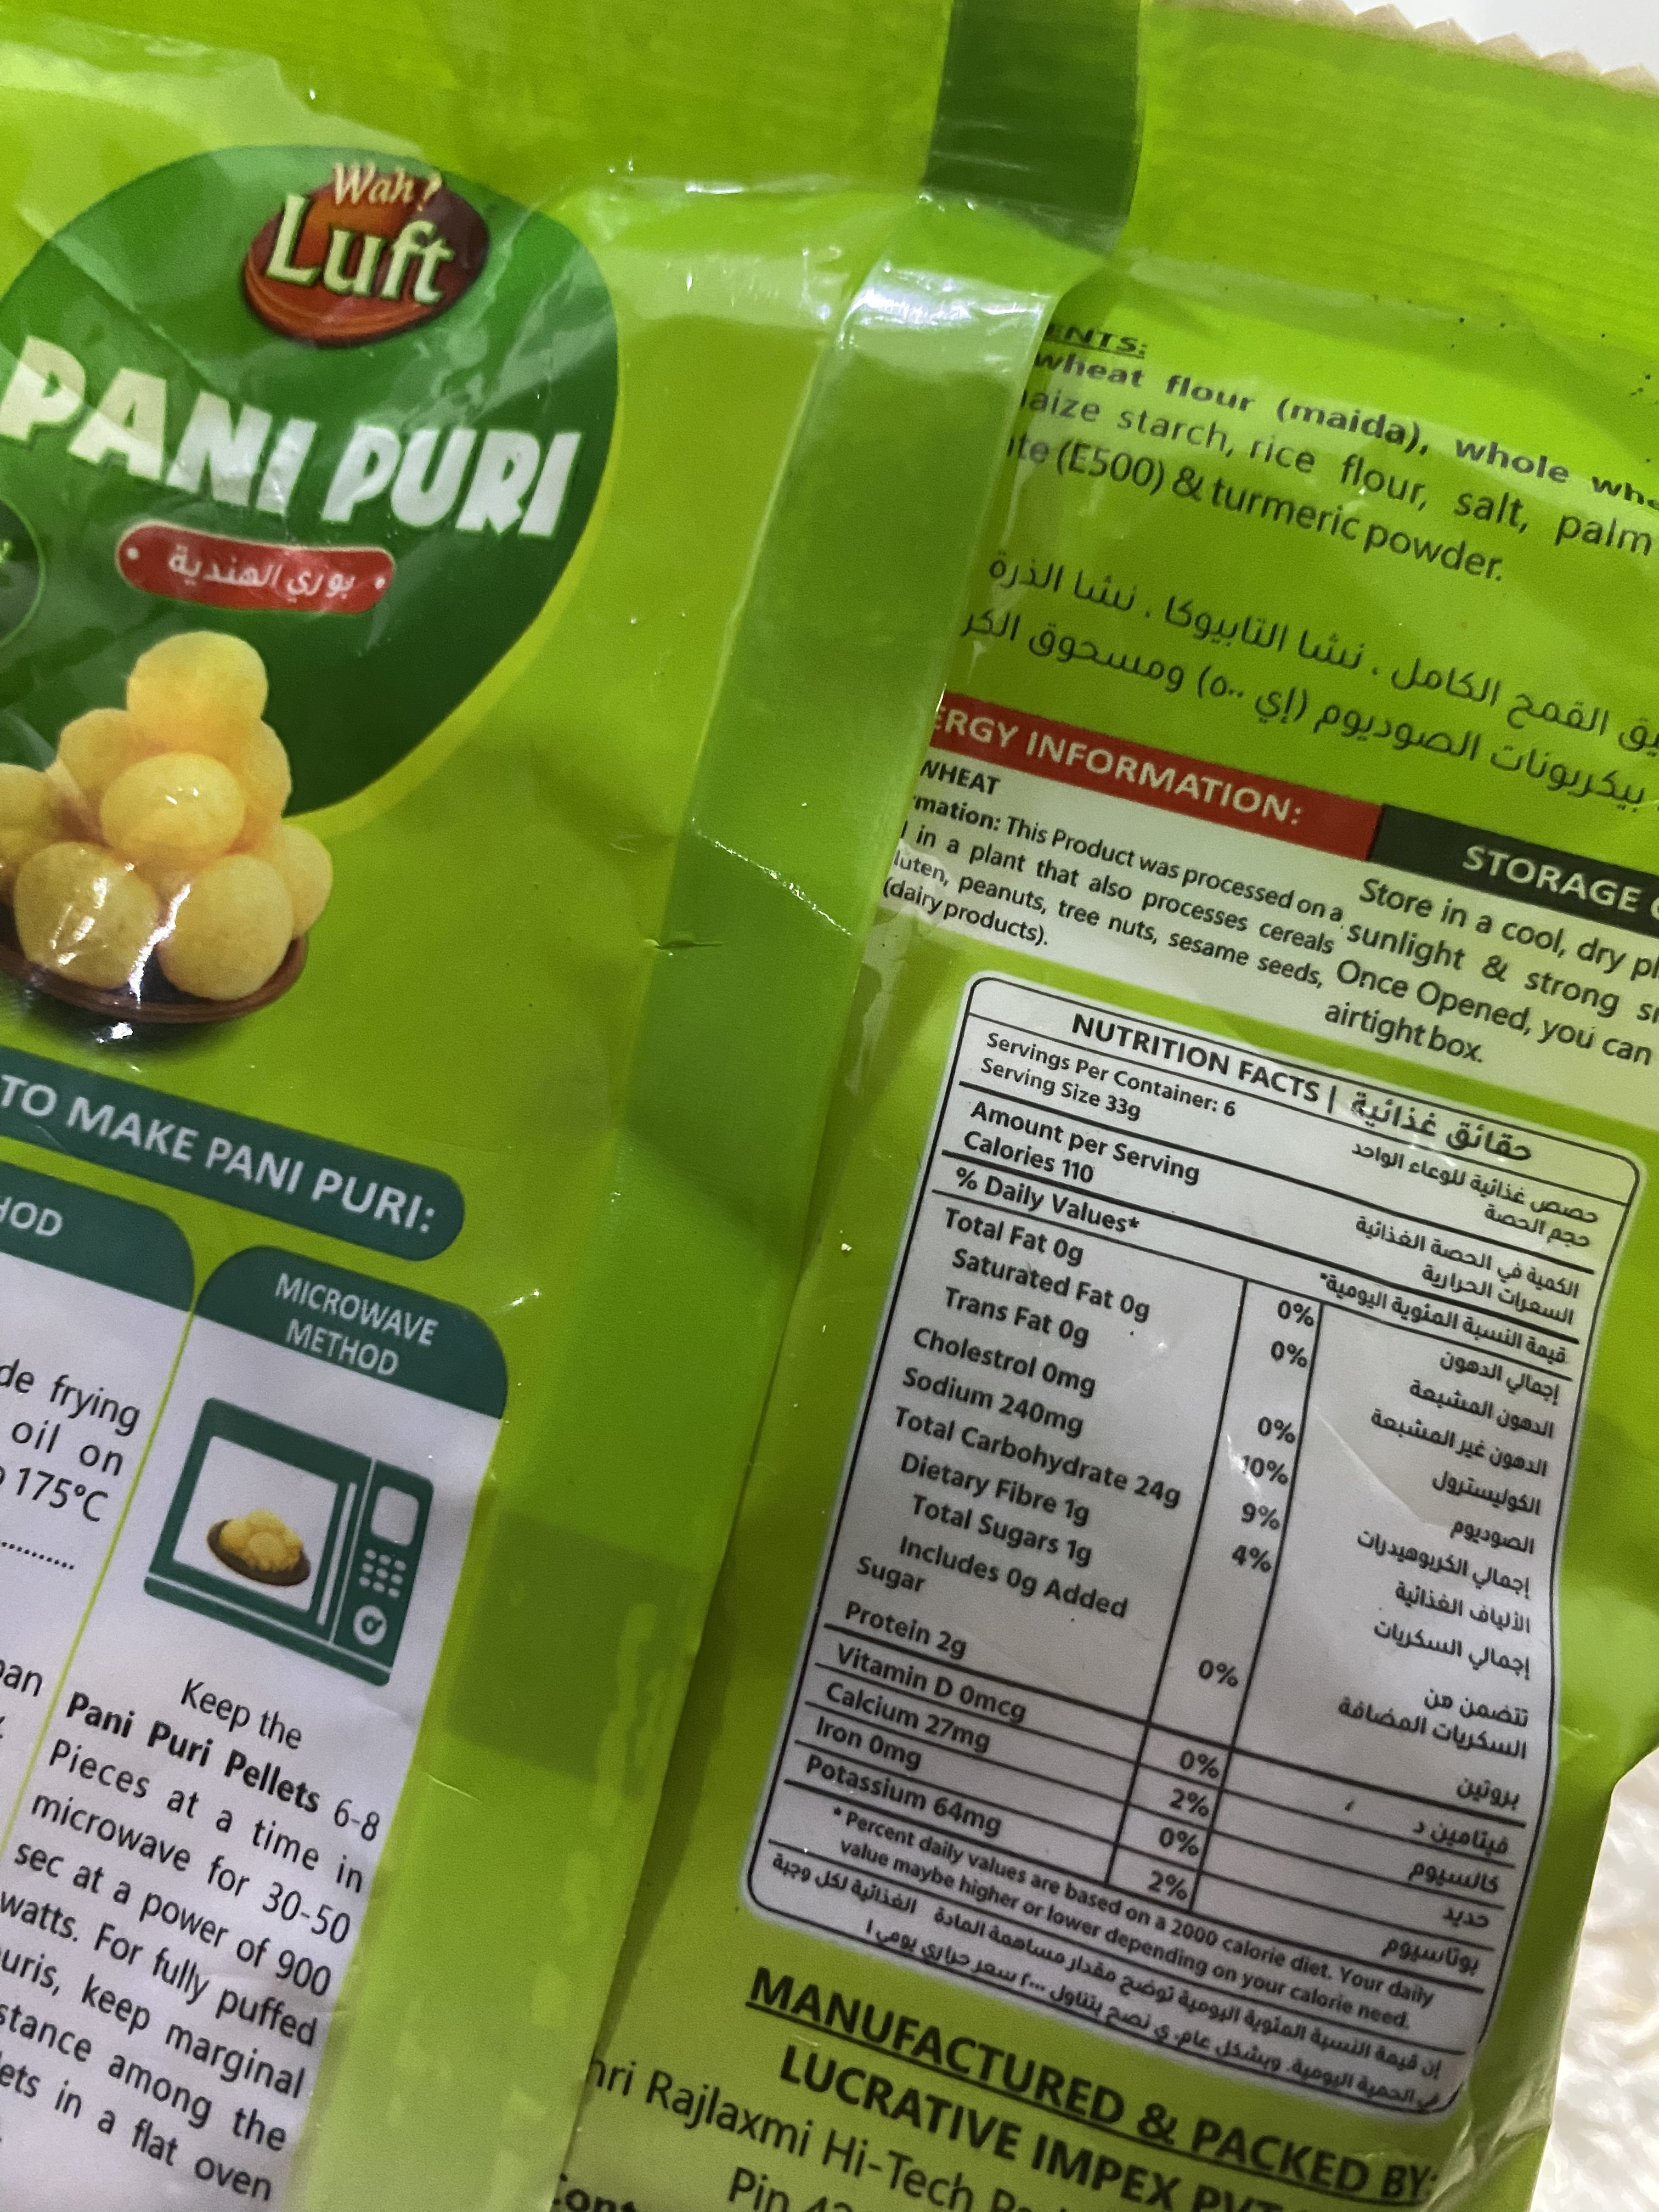table: (737, 956, 1643, 2127)
